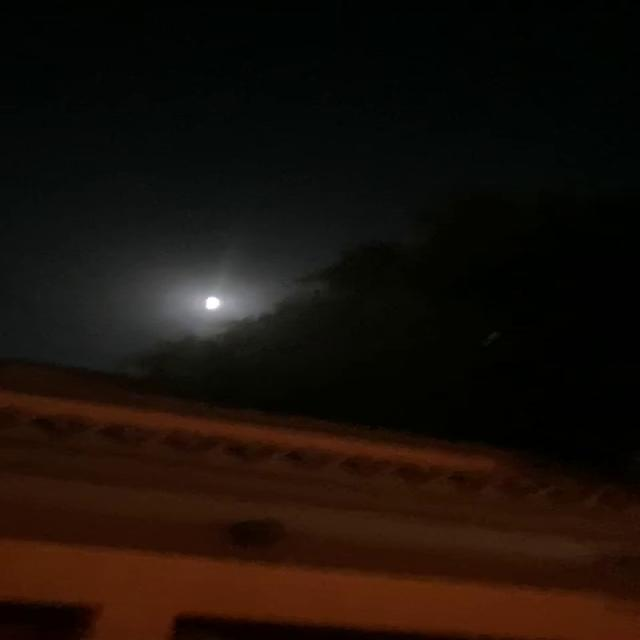moon: (156, 288, 187, 306)
